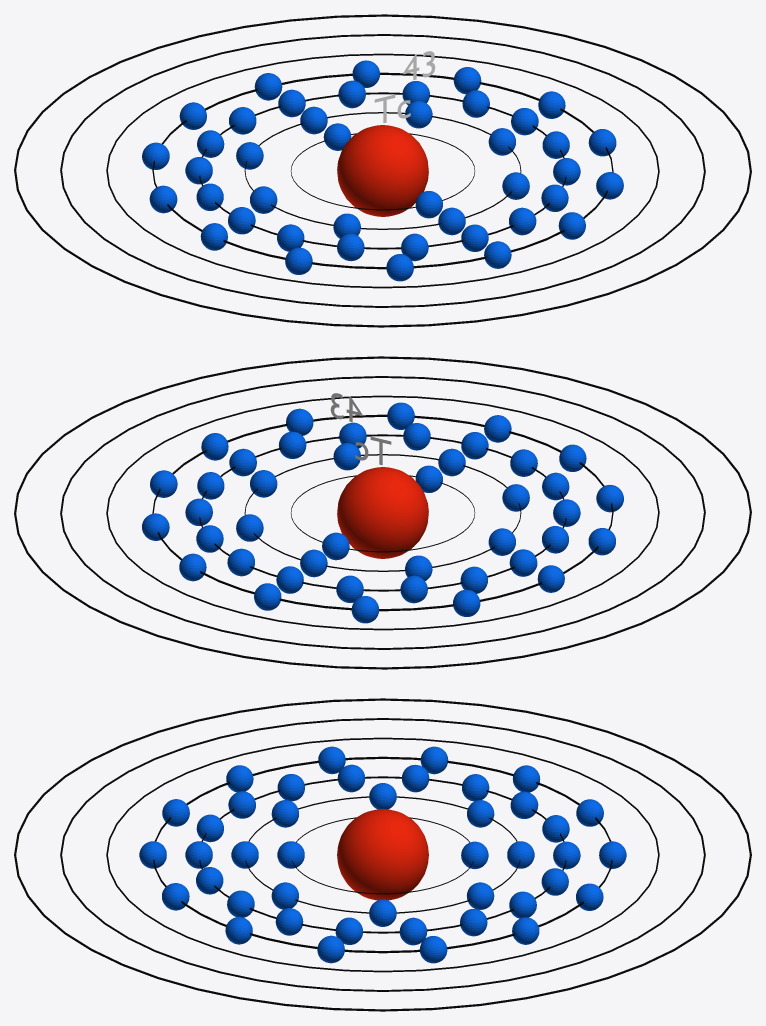
The picture shows the model from 3 angles, top to bottom: view 1: azimuth 30°, elevation 25°; view 2: azimuth 150°, elevation 25°; view 3: azimuth 270°, elevation 25°; orthographic projection.
Parts seen in each view (by area): view 1: Tc3, Tc4, Proton, Tc2, n7, n6, n5, n4, Tc1, n3, n2; view 2: Tc3, Tc4, Proton, Tc2, n7, n6, n5, n4, Tc1, n3, n2; view 3: Tc3, Tc4, Proton, Tc2, n7, n6, n5, n4, Tc1, n3, n2, n1.
Part boxes in pixels (<box>): Tc3: <box>185,80,580,261</box>; Tc4: <box>142,60,623,281</box>; Proton: <box>337,125,428,216</box>; Tc2: <box>236,101,529,238</box>; n7: <box>14,14,751,327</box>; n6: <box>60,34,705,307</box>; n5: <box>106,53,659,288</box>; n4: <box>152,72,613,269</box>; Tc1: <box>323,123,442,218</box>; n3: <box>199,92,566,249</box>; n2: <box>244,112,521,229</box>; Tc3: <box>185,422,580,603</box>; Tc4: <box>142,402,623,623</box>; Proton: <box>337,467,428,558</box>; Tc2: <box>236,443,529,580</box>; n7: <box>14,356,751,669</box>; n6: <box>60,376,705,649</box>; n5: <box>106,395,659,630</box>; n4: <box>152,414,613,611</box>; Tc1: <box>322,465,442,560</box>; n3: <box>199,434,566,591</box>; n2: <box>244,454,521,571</box>; Tc3: <box>185,764,580,945</box>; Tc4: <box>139,746,626,963</box>; Proton: <box>337,809,428,900</box>; Tc2: <box>231,783,534,926</box>; n7: <box>14,698,751,1011</box>; n6: <box>60,718,705,991</box>; n5: <box>106,737,659,972</box>; n4: <box>153,756,612,953</box>; Tc1: <box>277,841,488,869</box>; n3: <box>199,776,566,933</box>; n2: <box>245,796,520,913</box>; n1: <box>292,817,473,894</box>.
Bounding box in the file's own units: 802 × 180 × 802.
